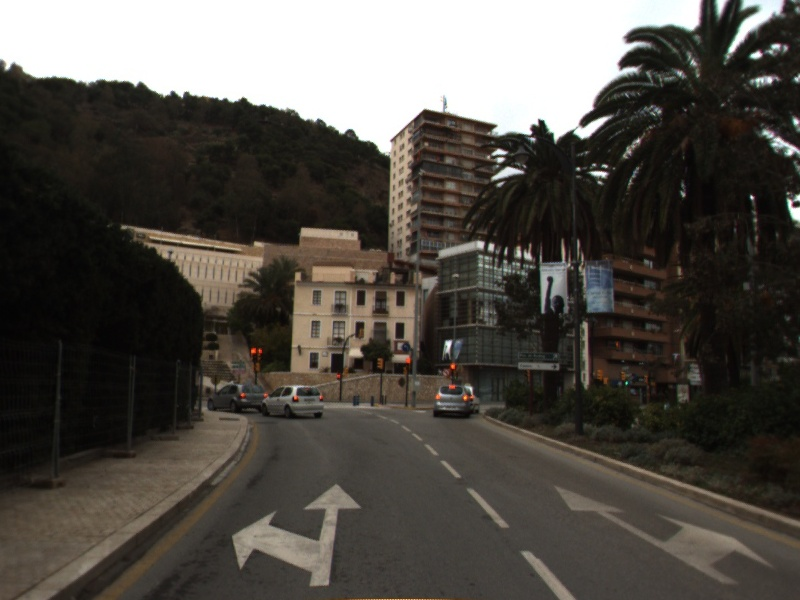STRAIGHT_LEFT: (230, 482, 364, 588)
STRAIGHT_RIGHT: (552, 483, 776, 586)
